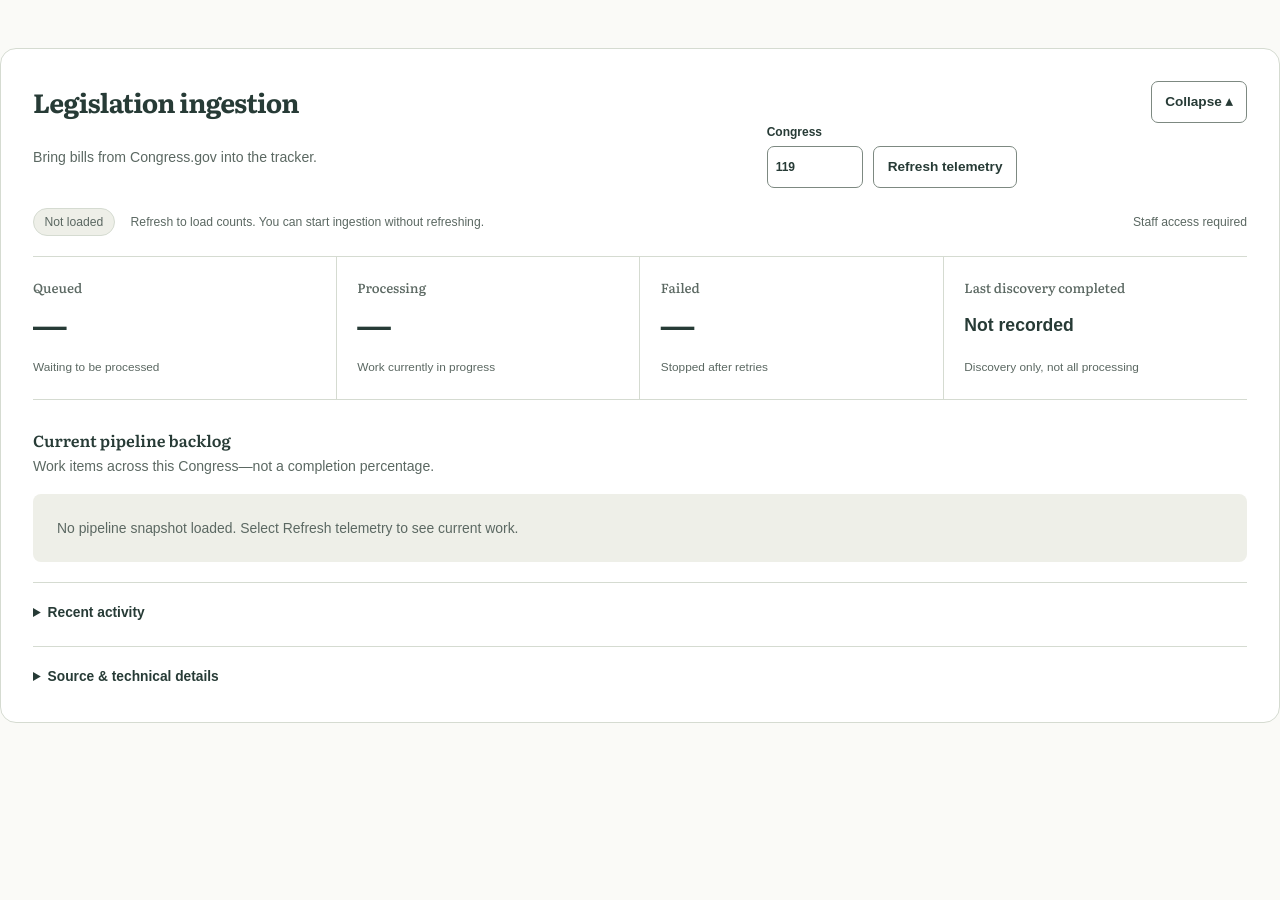
Test: shows a compact pipeline table with diagnostics collapsed
The image size is (1280, 900).
Click the button "Refresh telemetry" at [945, 167], box [873, 146, 1017, 188]
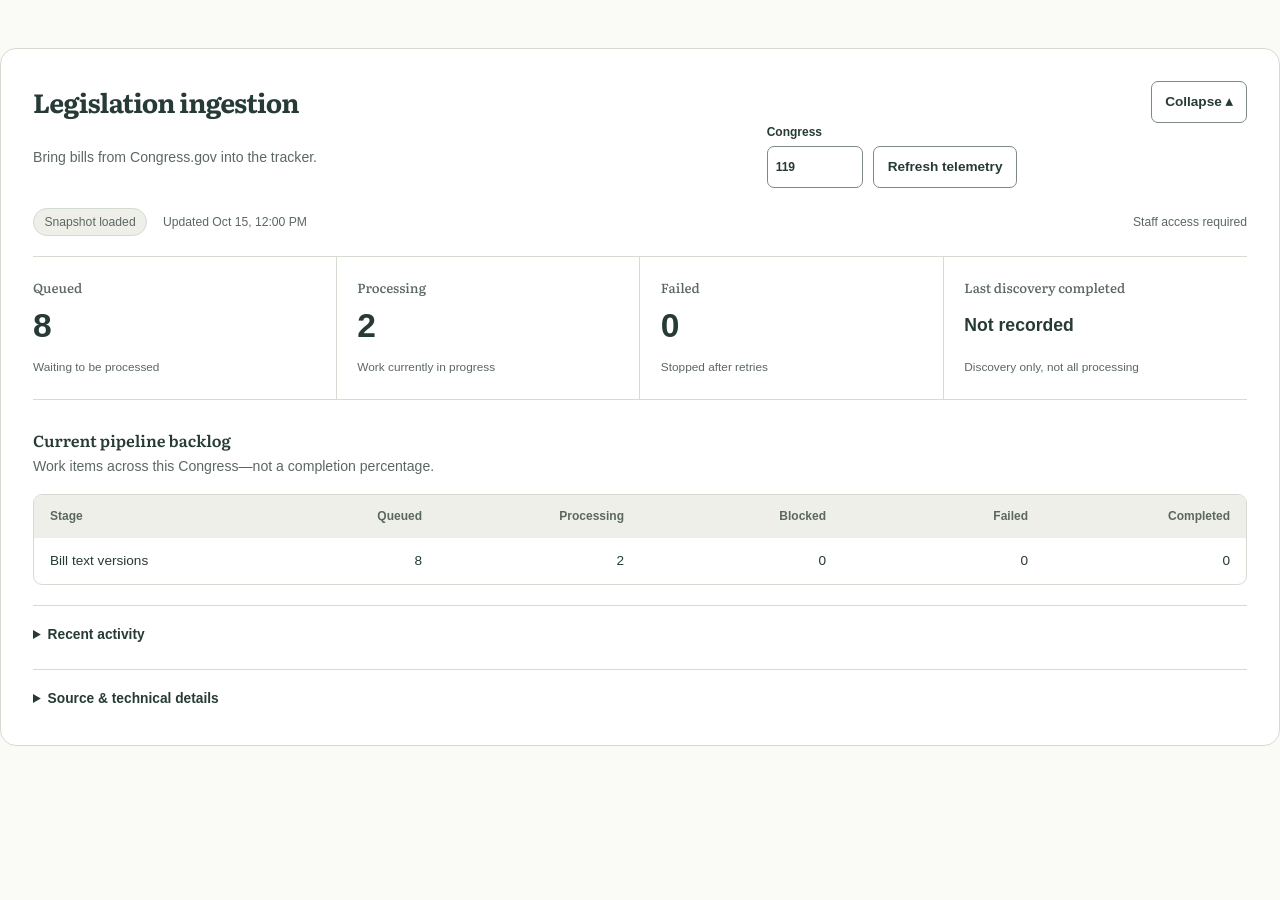
Now the table named "Pipeline work items" shows "Bill text versions", box [50, 553, 148, 568]
